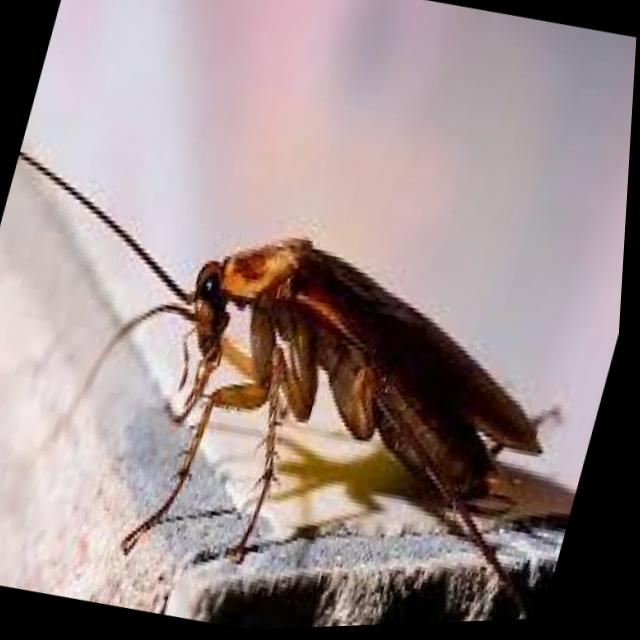Cockroach: (0, 100, 634, 640)
